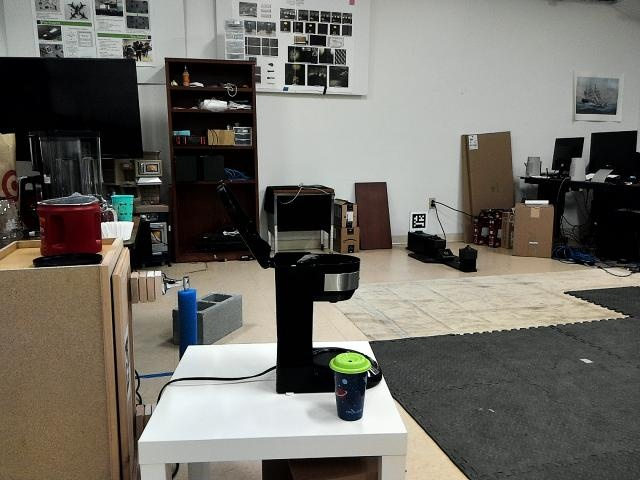coffee_cup: (110, 193, 141, 226)
noodle_handle: (168, 277, 204, 343)
useless_cup: (326, 350, 371, 425)
